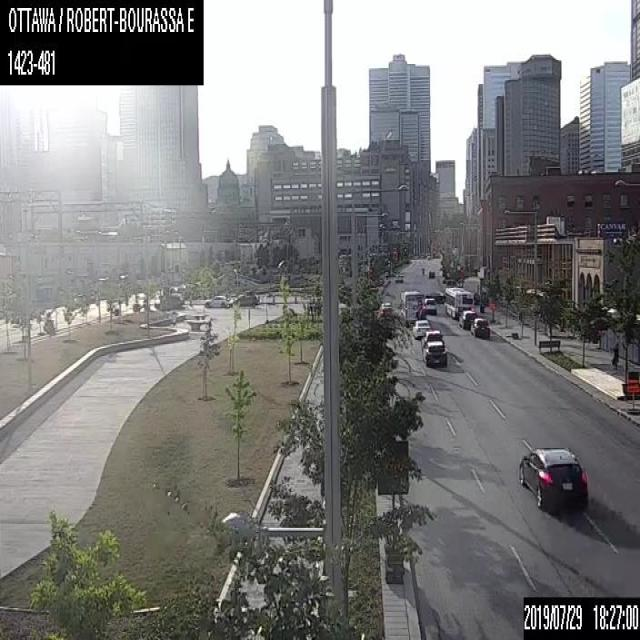bus: (443, 286, 473, 318)
construction: (375, 439, 408, 582), (626, 375, 639, 413)
pedestrian: (610, 339, 620, 376)
vehicle: (516, 444, 588, 509), (398, 288, 423, 326), (421, 341, 446, 366), (420, 329, 443, 351), (152, 292, 182, 308), (229, 292, 257, 307), (470, 317, 489, 337), (411, 319, 430, 338), (458, 309, 476, 329), (205, 292, 229, 307), (424, 297, 436, 313), (379, 299, 392, 312), (393, 273, 402, 282), (428, 270, 434, 278), (421, 266, 424, 274)
